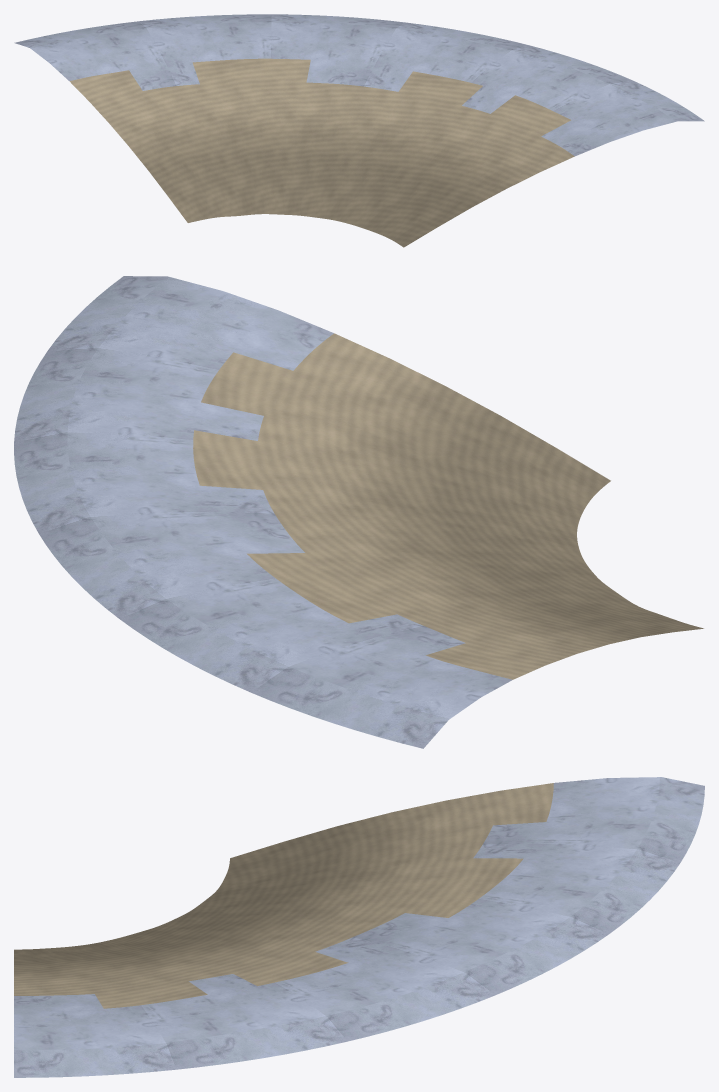
Rendered from beach_sand_inner_v5_winter.glb.
3 views of the same model, one above another, from view 1: azimuth 30°, elevation 25°; view 2: azimuth 150°, elevation 25°; view 3: azimuth 270°, elevation 25° (orthographic). The views are drawn at different scales.
Visible parts, largest first — view 1: beach_sand_inner; view 2: beach_sand_inner; view 3: beach_sand_inner.
Part boxes in pixels (x1,y1,x2,y2): beach_sand_inner: [14, 14, 704, 247]; beach_sand_inner: [14, 276, 703, 748]; beach_sand_inner: [14, 777, 704, 1077].
Size of the model in its own units: 6.4 by 0.8495 by 6.4.
Materials: 2 (2 with a texture image).
